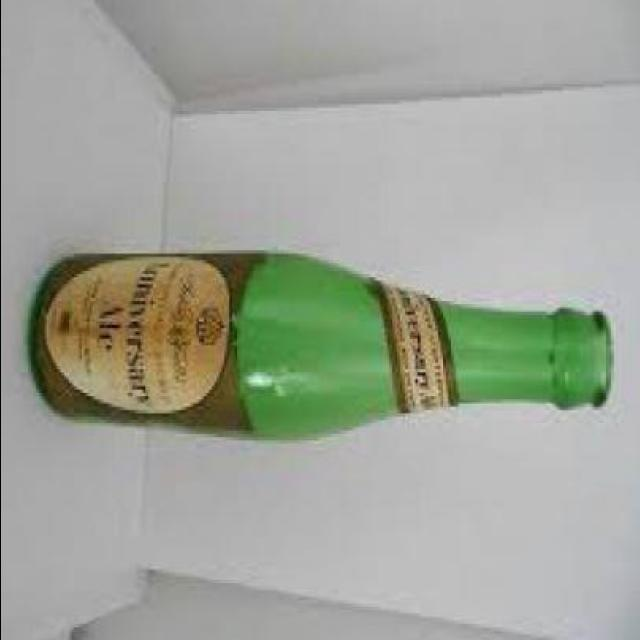kaca: (35, 243, 613, 438)
